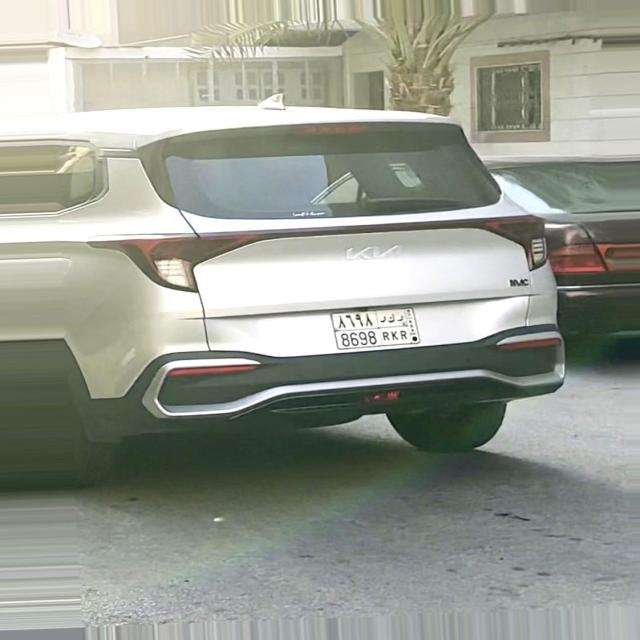Car-plate: (323, 300, 437, 356)
